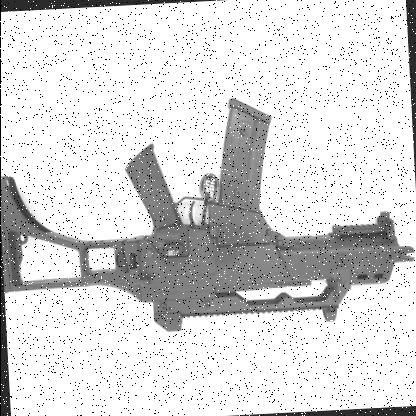rifle: (0, 99, 416, 381)
